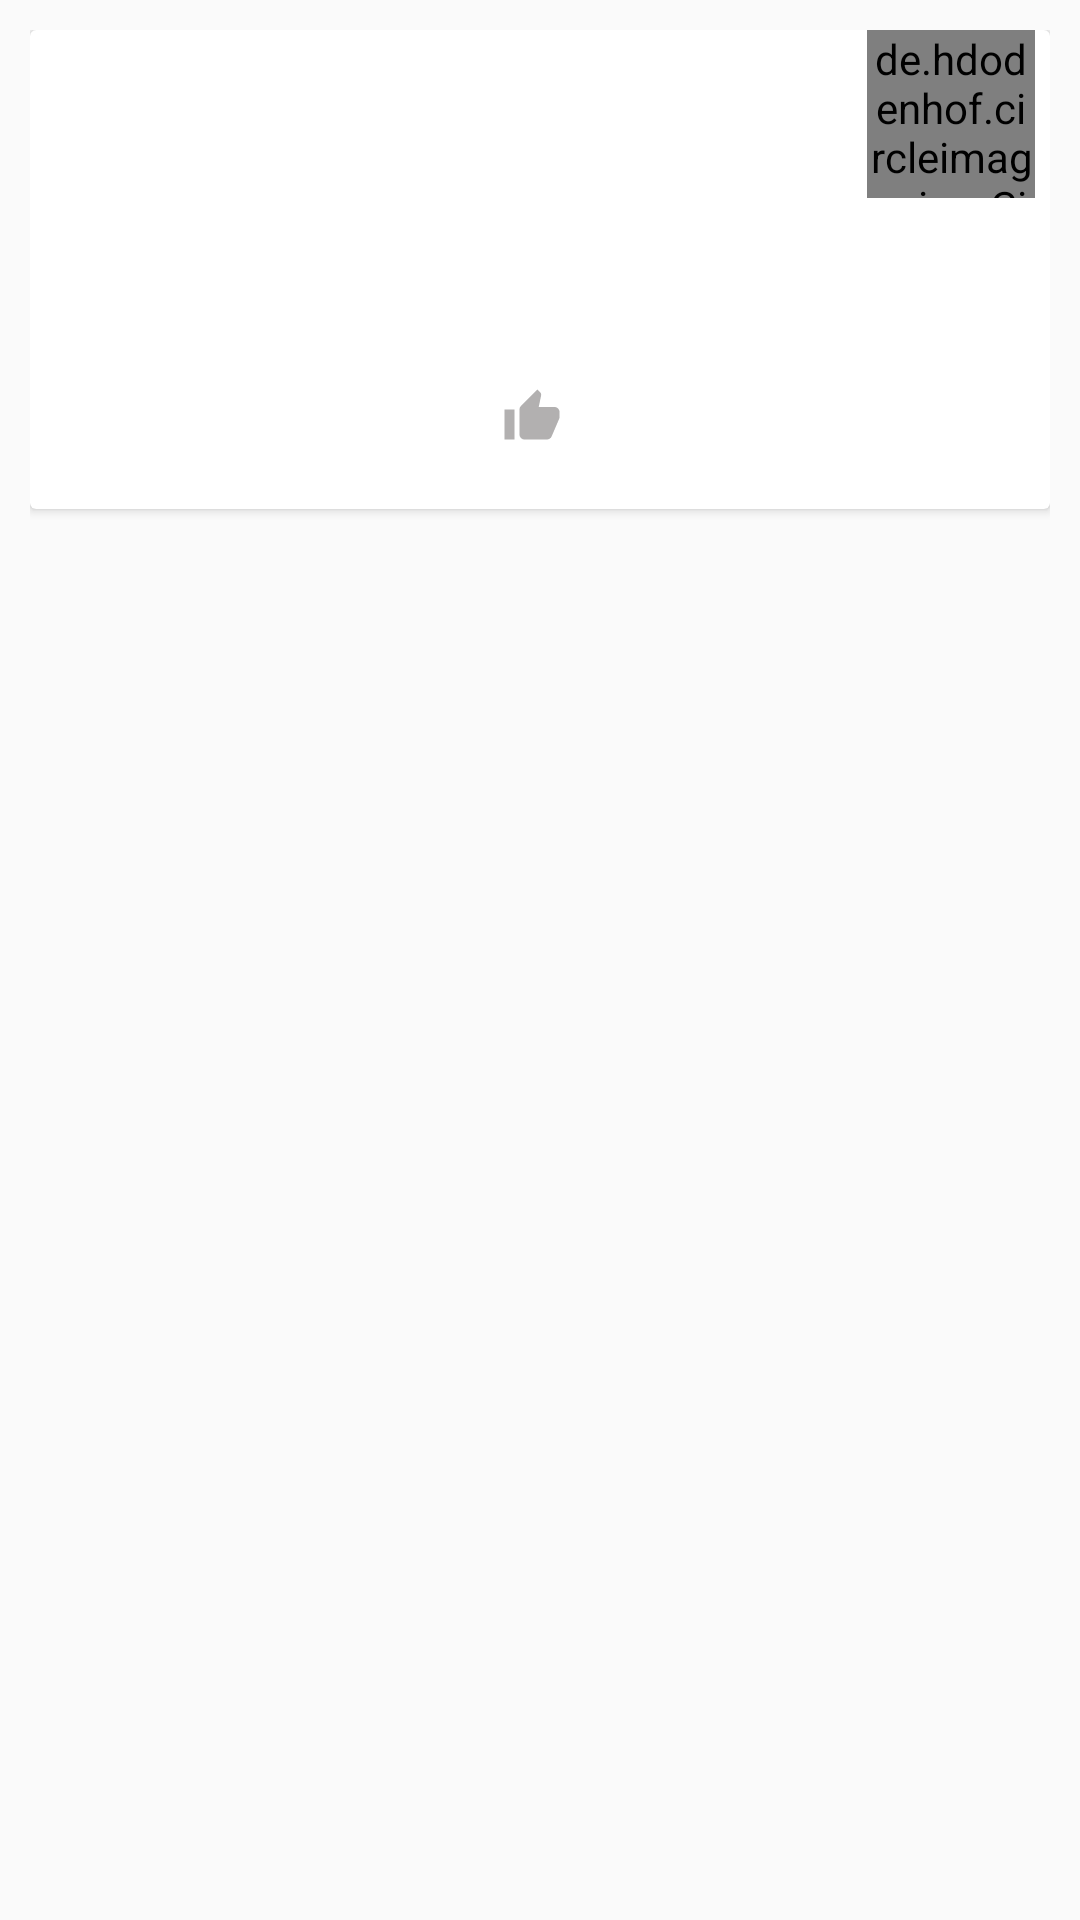

Icon click points for this 1080*1920 phone screenshot, format (x,y):
thumb up: (532,415)
